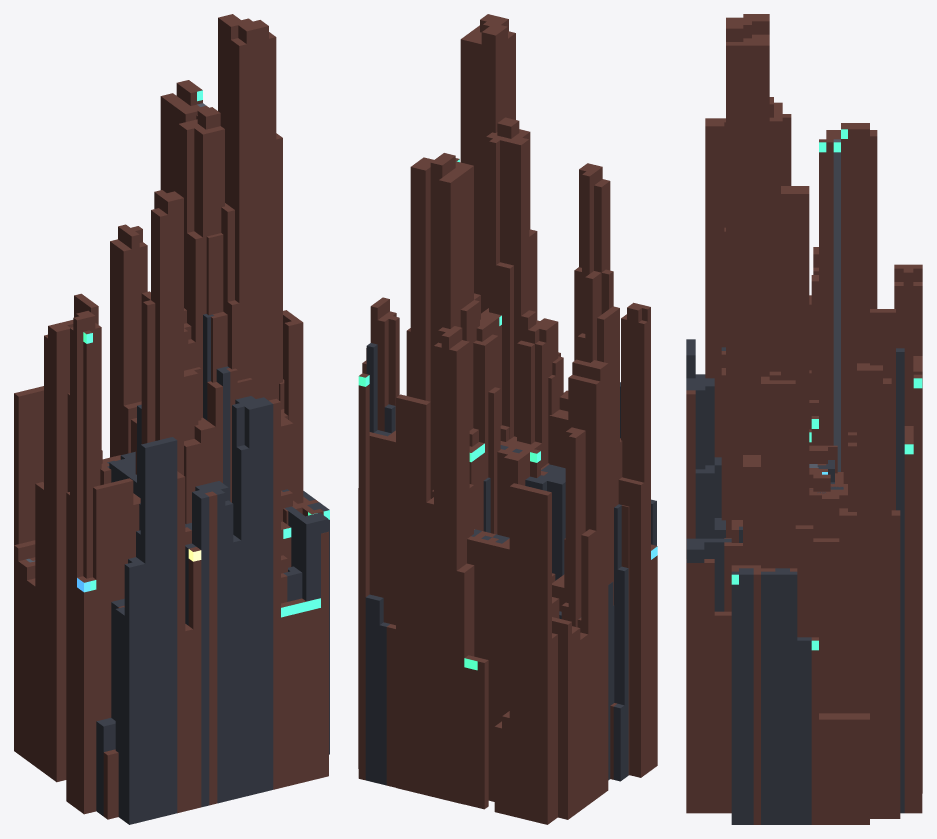
Rendered from city-props.glb.
The picture shows the model from 3 angles, left to right: view 1: azimuth 30°, elevation 25°; view 2: azimuth 150°, elevation 25°; view 3: azimuth 270°, elevation 25°; orthographic projection. The views are drawn at different scales.
Visible parts, largest first — view 1: mc-tower-d, mc-tower-a, mc-tower-c, mc-tower-b; view 2: mc-tower-d, mc-tower-b, mc-tower-a, mc-tower-c; view 3: mc-tower-a, mc-tower-c, mc-tower-d, mc-tower-b.
Boxes of the visible parts, x1,y1,x2,y2 form: mc-tower-d: [14, 133, 328, 824]; mc-tower-a: [14, 14, 303, 819]; mc-tower-c: [66, 80, 329, 814]; mc-tower-b: [67, 107, 328, 603]; mc-tower-d: [396, 157, 656, 824]; mc-tower-b: [358, 117, 622, 809]; mc-tower-a: [358, 14, 629, 819]; mc-tower-c: [430, 153, 657, 777]; mc-tower-a: [726, 14, 900, 818]; mc-tower-c: [731, 123, 877, 824]; mc-tower-d: [686, 118, 922, 813]; mc-tower-b: [686, 97, 922, 813].
Size of the model in its own units: 40 by 116 by 32.5.
1 material, 1 textured.
